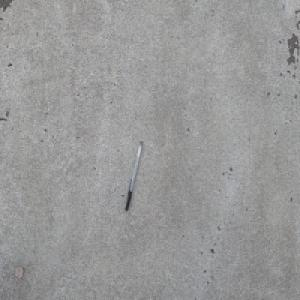Pen: (124, 140, 143, 211)
